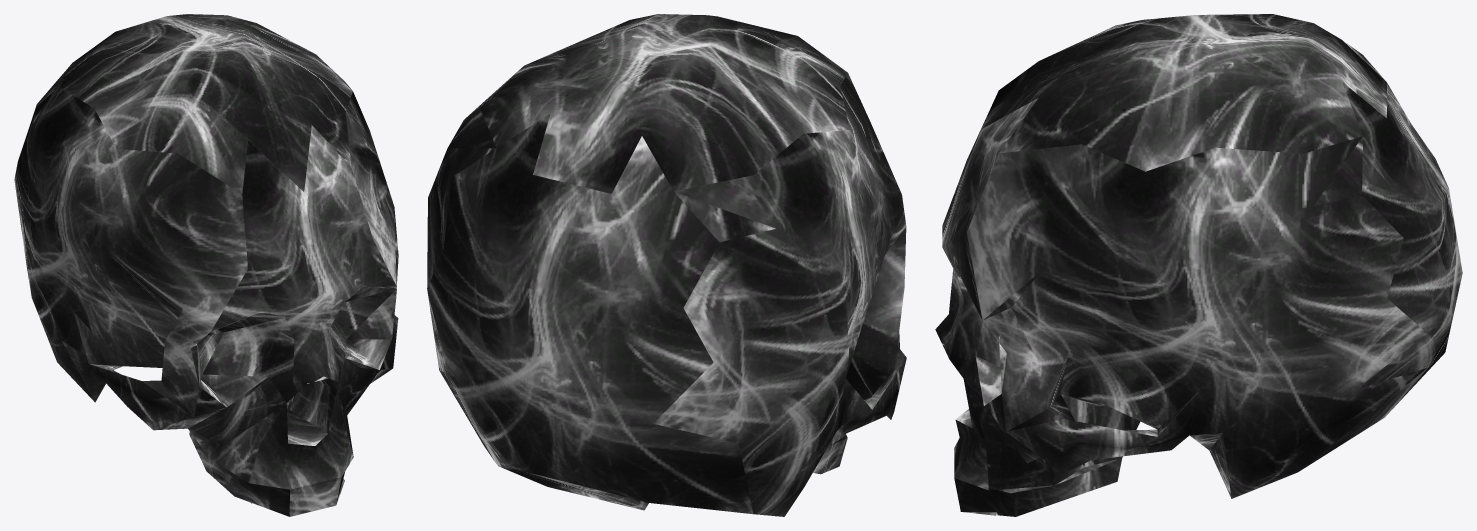
The model's file is guitou01.FBX.
3 renders of one model, left to right at view 1: azimuth 30°, elevation 25°; view 2: azimuth 150°, elevation 25°; view 3: azimuth 270°, elevation 25°, orthographic. The views are drawn at different scales.
Parts seen in each view (by area): view 1: Head; view 2: Head; view 3: Head.
Part boxes in pixels (x1,y1,x2,y2): Head: (14,14,398,516); Head: (427,14,906,516); Head: (935,14,1462,516).
Size of the model in its own units: 0.1501 by 0.1798 by 0.1842.
